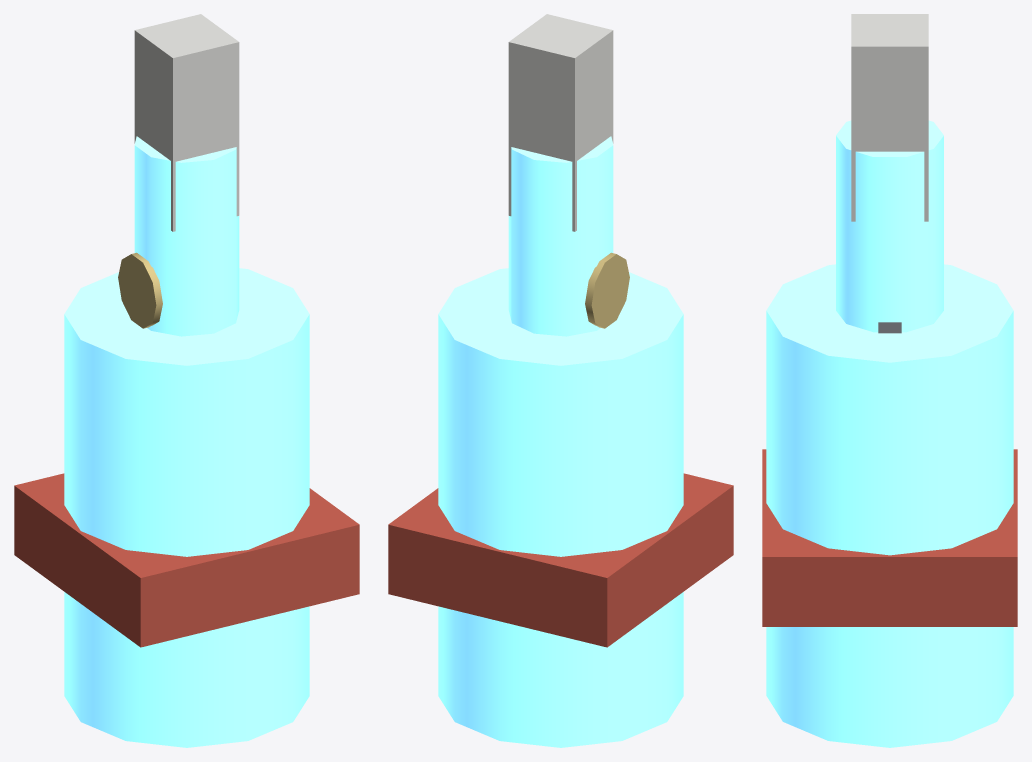
File: incendiary.glb
The picture shows the model from 3 angles, left to right: view 1: azimuth 30°, elevation 25°; view 2: azimuth 150°, elevation 25°; view 3: azimuth 270°, elevation 25°; orthographic projection.
Parts seen in each view (by area): view 1: nade_incendiary; view 2: nade_incendiary; view 3: nade_incendiary.
Part boxes in pixels (<box>): nade_incendiary: <box>14,14,359,747</box>; nade_incendiary: <box>388,14,733,747</box>; nade_incendiary: <box>762,14,1017,747</box>.
Size of what is drawn, in the model's own units: 0.066 by 0.19 by 0.066.
